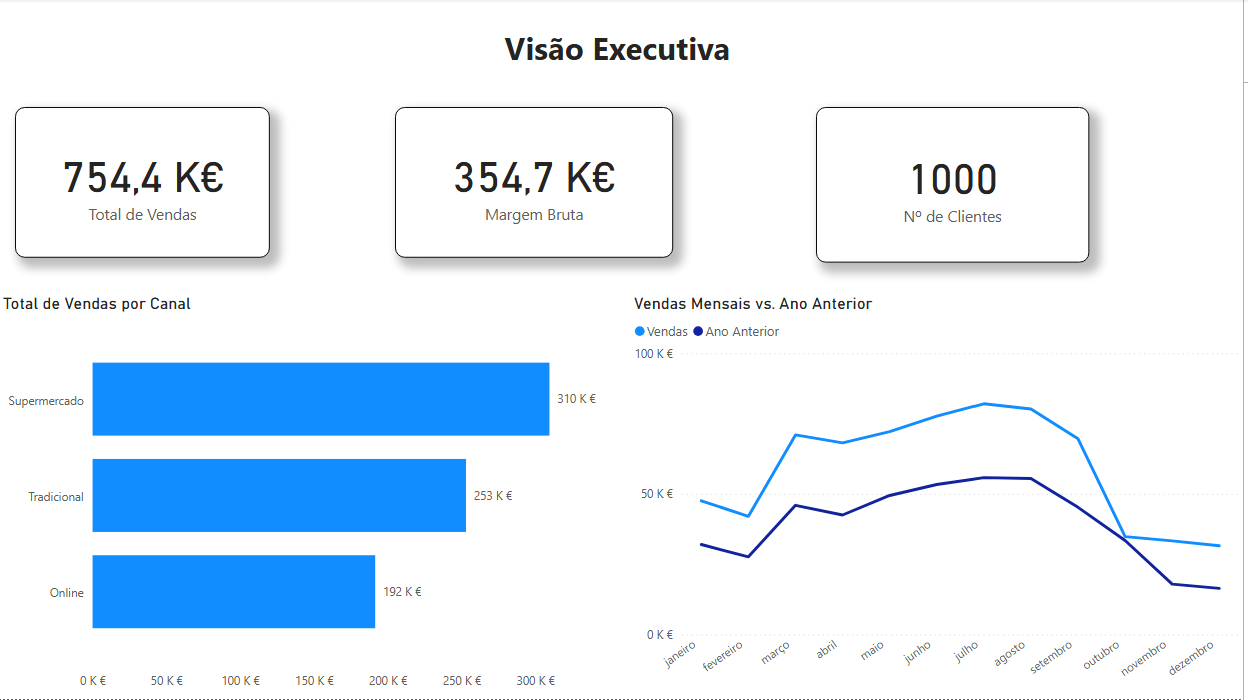

This screenshot's page, from the dashboard's own definition file:
{"tool":"powerbi","page":{"name":"Visão Executiva","canvas":[1280,720],"ordinal":0},"visuals":[{"type":"card","fields":{"Values":["DimCostumer.Total_Vendas"]},"box":[17.5,111,262.2,155.2],"z":0},{"type":"card","fields":{"Values":["DimCostumer.MargemBruta"]},"box":[408.2,111,285.8,155.2],"z":1000},{"type":"card","fields":{"Values":["DimCostumer.Nr_Clientes"]},"box":[841,111,280.7,160.4],"z":3000},{"type":"lineChart","title":"Vendas Mensais vs. Ano Anterior","fields":{"Category":["calendario.Mes"],"Y":["DimCostumer.Total_Vendas","DimCostumer.Vendas_Ano_Anterior"]},"box":[648.7,302.3,631.3,417.4],"z":4000},{"type":"clusteredBarChart","fields":{"Category":["DimStore.Channel"],"Y":["DimCostumer.Total_Vendas"]},"box":[0,302.3,640.5,417.4],"z":5000},{"type":"textbox","box":[489.4,22.6,317.7,61.7],"z":6000}]}

Visuals, with their boxes in screenshot pixels (x1, y1, x2, y2), scaled from the page's 1280x720 canvas onto the 1248x700 screenshot:
card - DimCostumer.Total_Vendas: crop(17, 108, 273, 259)
card - DimCostumer.MargemBruta: crop(398, 108, 677, 259)
card - DimCostumer.Nr_Clientes: crop(820, 108, 1094, 264)
"Vendas Mensais vs. Ano Anterior" lineChart: crop(632, 294, 1247, 699)
clusteredBarChart - DimStore.Channel x DimCostumer.Total_Vendas: crop(0, 294, 624, 699)
textbox: crop(477, 22, 787, 82)
